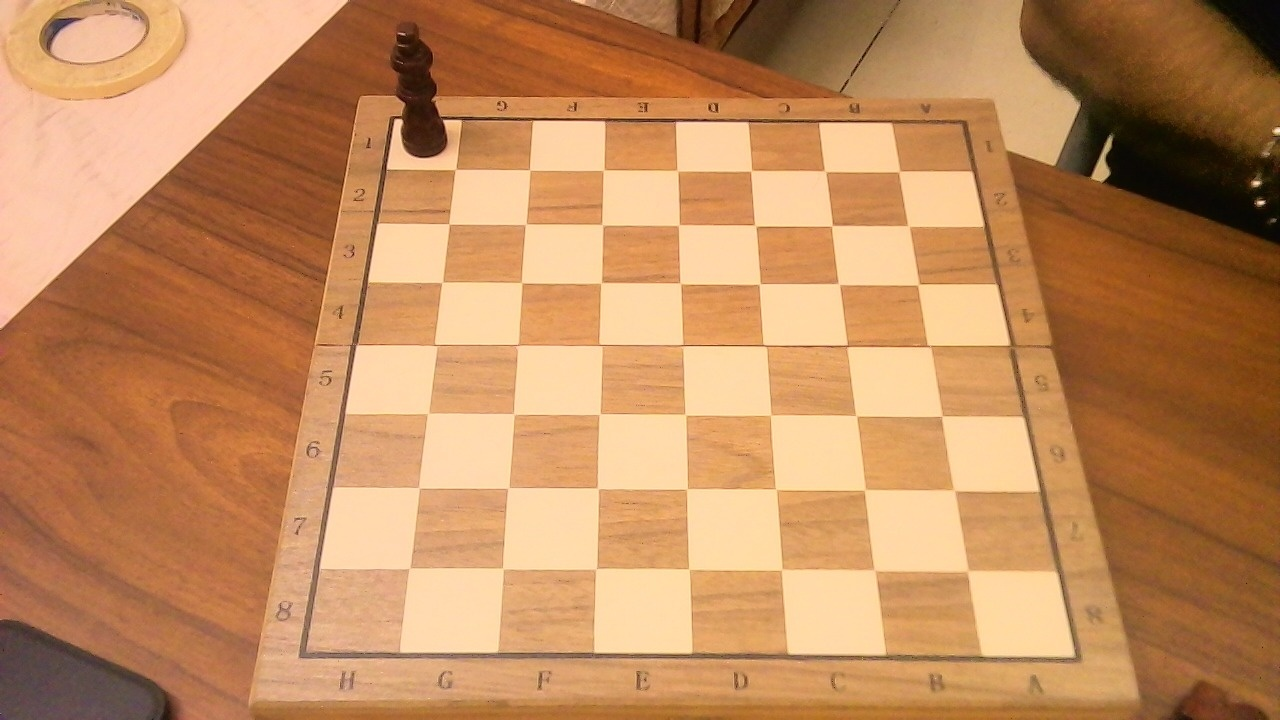k: (389, 10, 457, 161)
